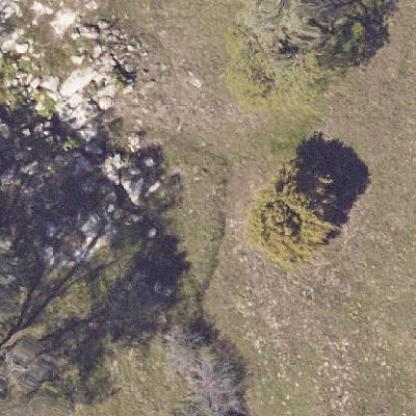tree-top: (220, 13, 354, 116), (238, 169, 344, 268)
